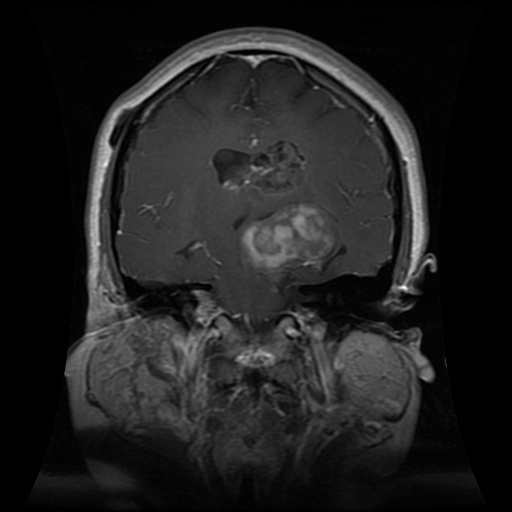glioma: (237, 199, 348, 289)
